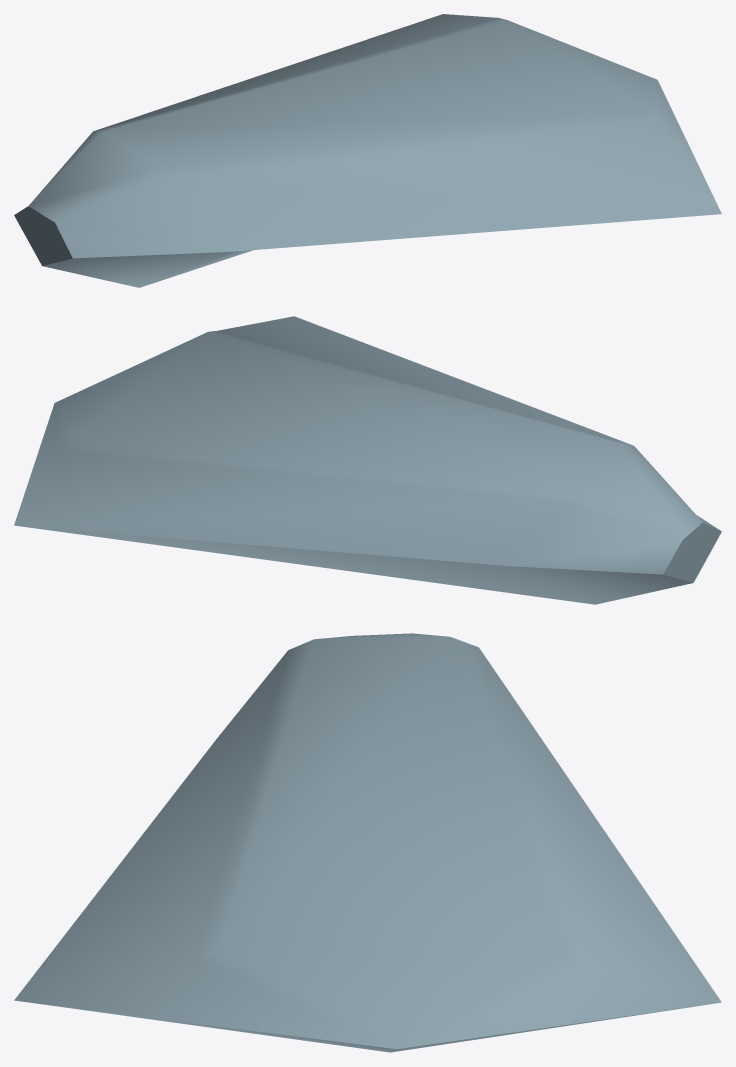
Rendered from ironAxeHead.glb.
The picture shows the model from 3 angles, top to bottom: view 1: azimuth 30°, elevation 25°; view 2: azimuth 150°, elevation 25°; view 3: azimuth 270°, elevation 25°; orthographic projection. The views are drawn at different scales.
Visible parts, largest first — view 1: Cube001; view 2: Cube001; view 3: Cube001.
Boxes of the visible parts, box(x1,y1,x2,y2) form: Cube001: box(14, 14, 721, 287); Cube001: box(14, 316, 721, 604); Cube001: box(14, 633, 721, 1052).
Size of the model in its own units: 0.2542 by 0.0541 by 0.1958.
